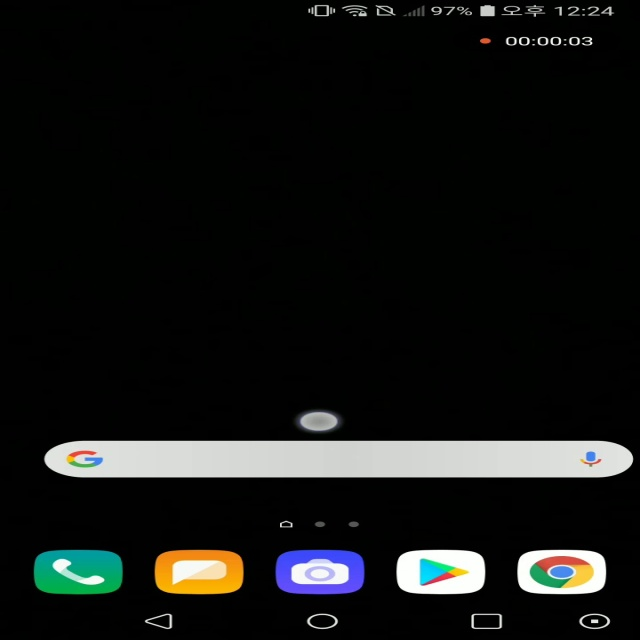Cursor: (299, 411, 344, 433)
